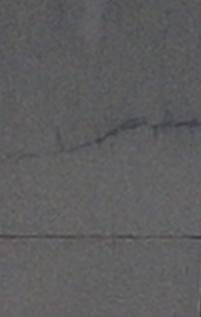termicas: (49, 112, 201, 161)
